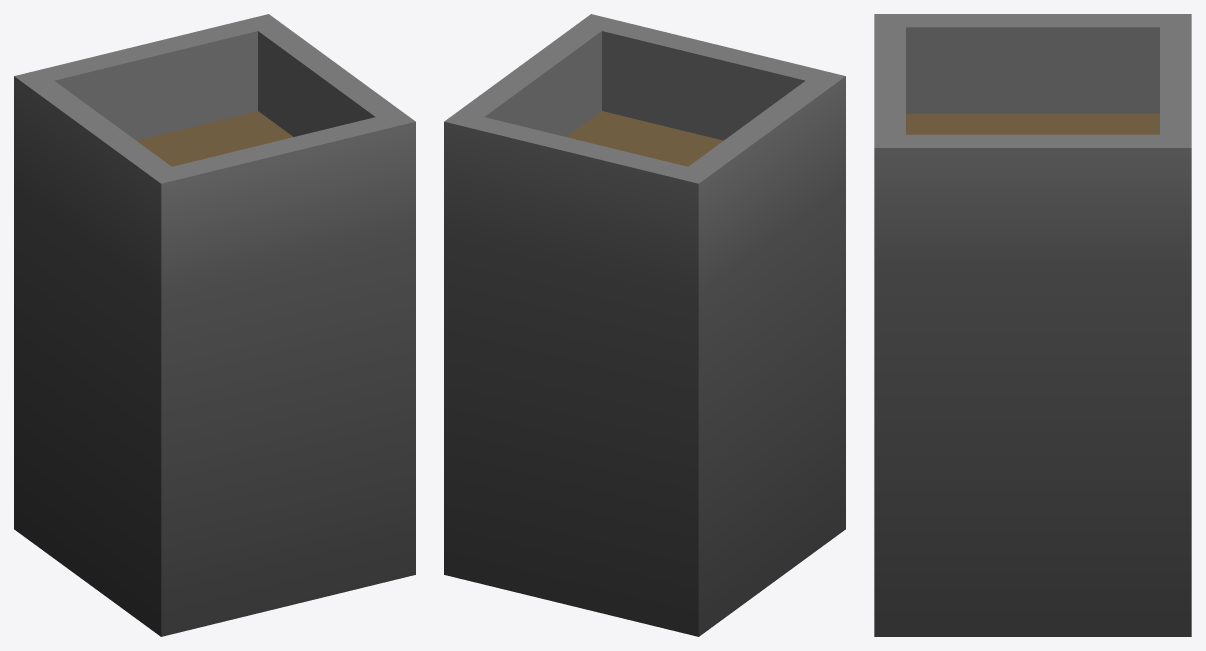
File: single.FBX
The picture shows the model from 3 angles, left to right: view 1: azimuth 30°, elevation 25°; view 2: azimuth 150°, elevation 25°; view 3: azimuth 270°, elevation 25°; orthographic projection. The views are drawn at different scales.
Parts seen in each view (by area): view 1: single; view 2: single; view 3: single.
Part boxes in pixels (x1=…): single: x1=14, y1=14, x2=415, y2=636; single: x1=444, y1=14, x2=845, y2=636; single: x1=874, y1=14, x2=1191, y2=636.
Bounding box in the file's own units: 50 × 85 × 50.
